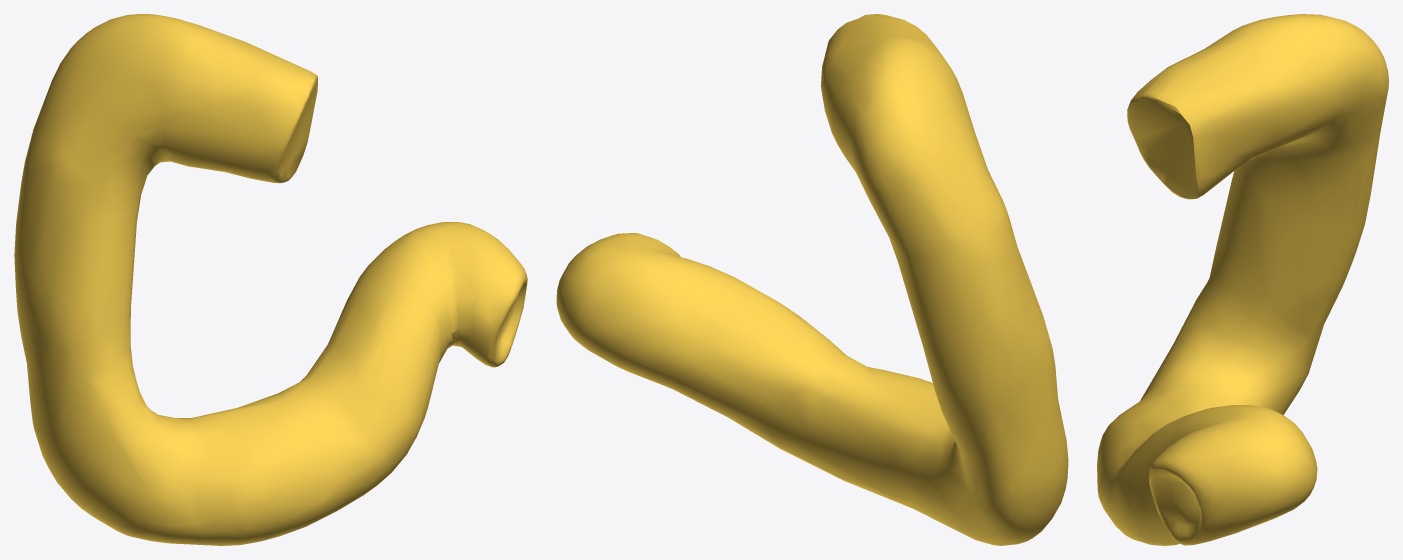
The model's file is duodenum.glb.
The picture shows the model from 3 angles, left to right: view 1: azimuth 30°, elevation 25°; view 2: azimuth 150°, elevation 25°; view 3: azimuth 270°, elevation 25°; orthographic projection. The views are drawn at different scales.
Visible parts, largest first — view 1: FJ350_BP4620_FMA7206_Duodenum; view 2: FJ350_BP4620_FMA7206_Duodenum; view 3: FJ350_BP4620_FMA7206_Duodenum.
Part boxes in pixels (bbox=[...]): FJ350_BP4620_FMA7206_Duodenum: bbox=[14, 14, 527, 545]; FJ350_BP4620_FMA7206_Duodenum: bbox=[556, 14, 1068, 545]; FJ350_BP4620_FMA7206_Duodenum: bbox=[1097, 14, 1388, 545].
Bounding box in the file's own units: 0.2545 × 0.2511 × 0.1376.
